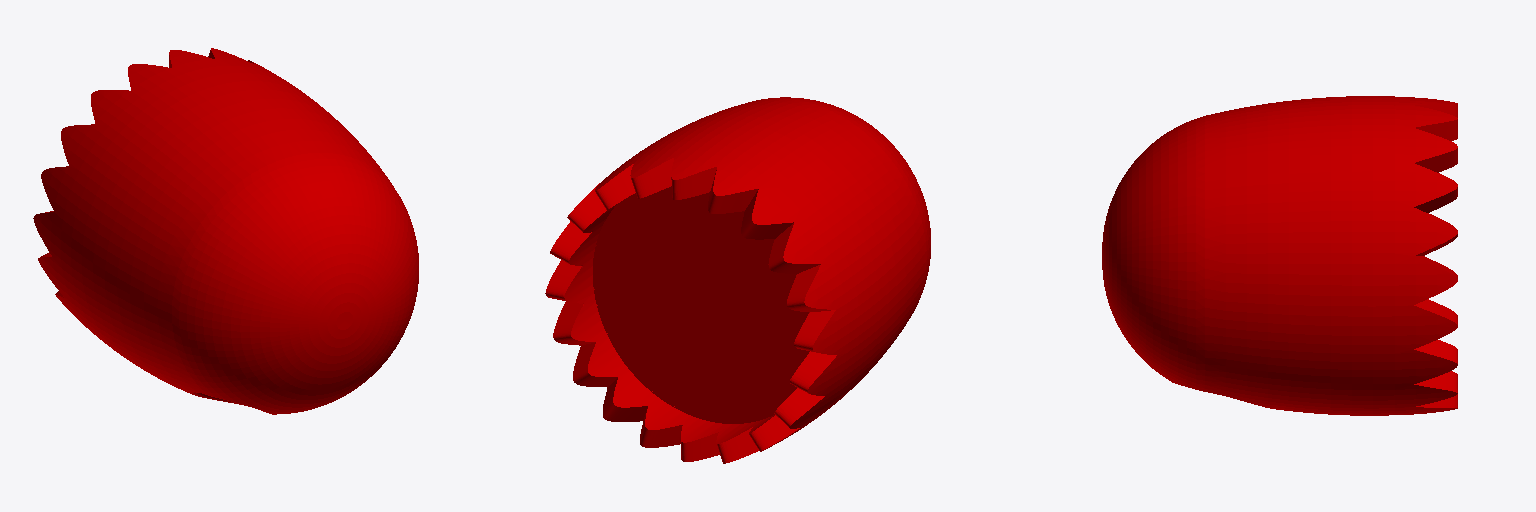
Rendered from the_ghost.obj.
The picture shows the model from 3 angles: view 1: azimuth 30°, elevation 25°; view 2: azimuth 150°, elevation 25°; view 3: azimuth 270°, elevation 25°; orthographic projection.
Parts seen in each view (by area): view 1: Body_Pac_Man_Ghost.004; view 2: Body_Pac_Man_Ghost.004; view 3: Body_Pac_Man_Ghost.004.
Part boxes in pixels (left/top/right/bottom): Body_Pac_Man_Ghost.004: left=33, top=48, right=418, bottom=414; Body_Pac_Man_Ghost.004: left=545, top=97, right=930, bottom=463; Body_Pac_Man_Ghost.004: left=1102, top=96, right=1457, bottom=415.
Bounding box in the file's own units: 1.71 × 1.71 × 1.9.